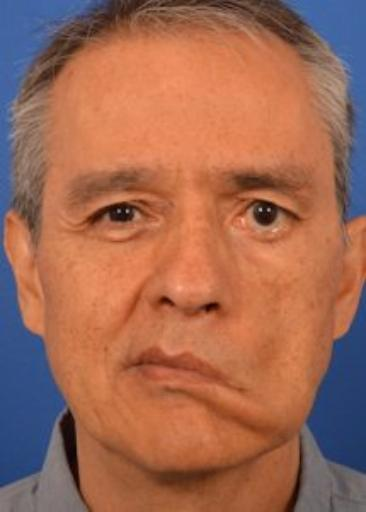left_eye: (230, 194, 307, 242)
left_lip_corner: (237, 380, 252, 400)
right_eye: (85, 196, 158, 231)
right_lip_corner: (118, 357, 141, 376)
